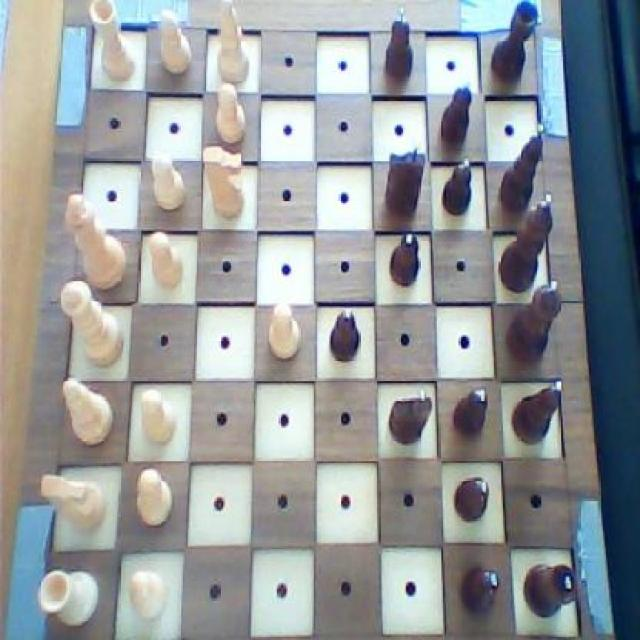bishop: (496, 121, 548, 214), (508, 377, 566, 448)
black-bishop: (497, 190, 558, 294)
black-king: (383, 138, 428, 222), (386, 386, 436, 446)
black-knight: (449, 382, 492, 446), (435, 77, 473, 148), (383, 4, 416, 82), (457, 560, 501, 617), (438, 154, 476, 218), (325, 303, 363, 365), (449, 472, 491, 527), (386, 231, 421, 291)
black-pawn: (505, 278, 562, 367)
black-queen: (488, 0, 544, 86), (524, 558, 580, 618)
black-rook: (59, 375, 116, 448), (214, 0, 251, 86)
white-bishop: (62, 190, 130, 288)
white-king: (40, 468, 108, 536), (200, 143, 247, 220)
white-knight: (154, 6, 193, 81), (134, 465, 177, 530), (210, 81, 252, 147), (144, 228, 188, 288), (125, 564, 169, 620), (265, 297, 302, 362), (149, 147, 187, 210), (137, 388, 176, 448)
white-pawn: (58, 275, 125, 367)
white-queen: (32, 563, 101, 630), (88, 0, 137, 83)
